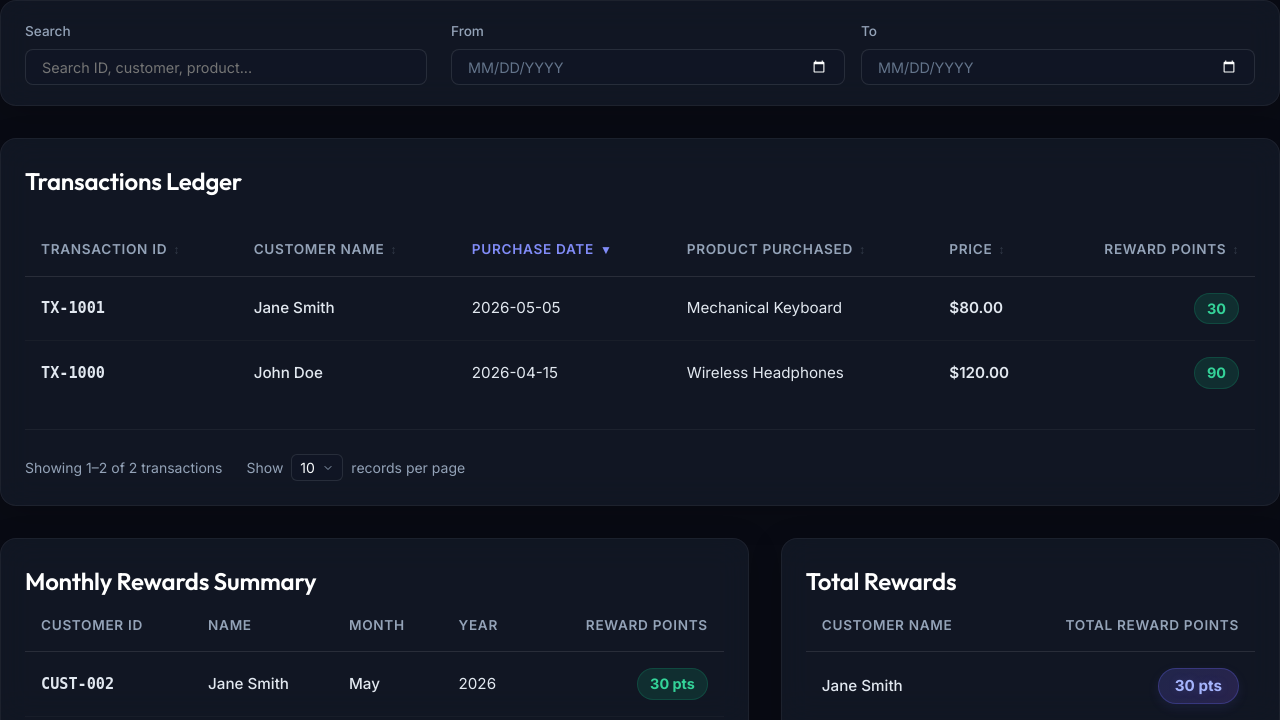
Scenario: DashboardContent Component › applies date range filters on input change and apply click
The image size is (1280, 720).
Type "2026-05-01" into the date field with test id "start-date-input".
click(648, 67); type("2026-05-01")  # box [451, 49, 845, 85]
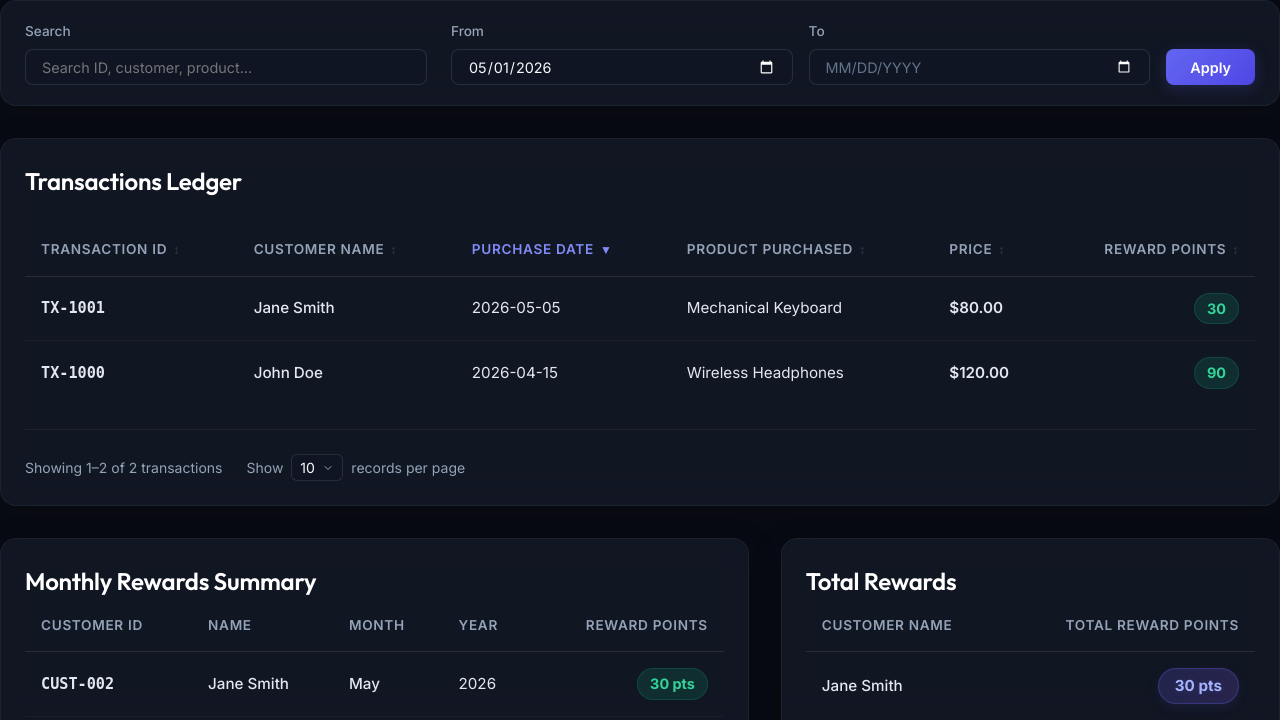
Type "2026-05-31" into the date field with test id "end-date-input".
click(979, 67); type("2026-05-31")  # box [809, 49, 1150, 85]
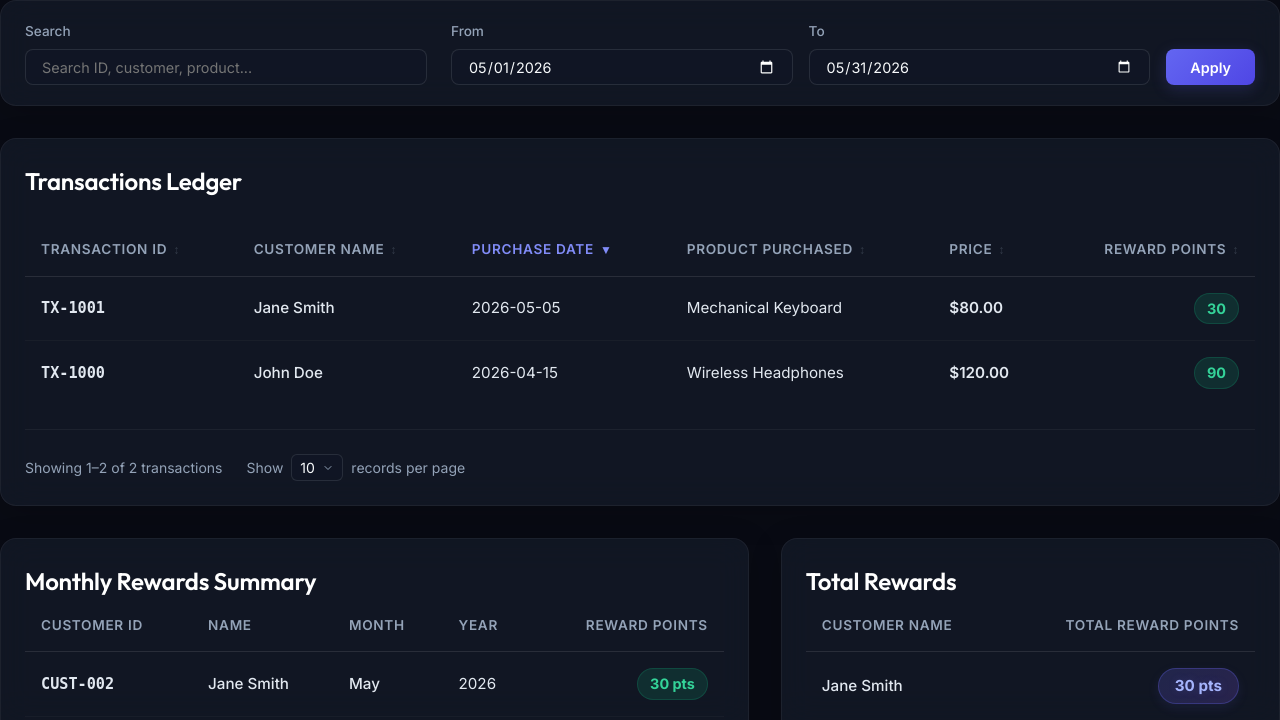
Click the button with test id "apply-filters-btn".
click(1211, 67)  # box [1166, 49, 1255, 85]
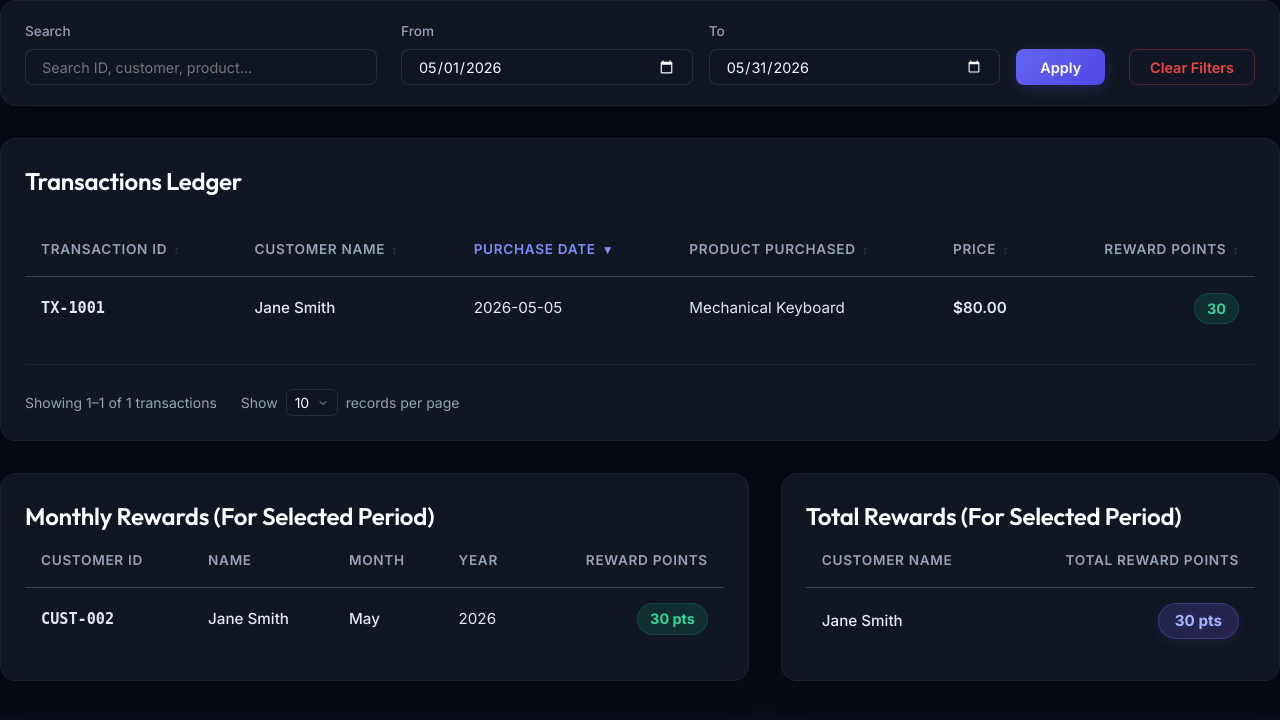
Expected: the text "Mechanical Keyboard" is shown, [673, 276, 937, 340]
Expected: the text "Wireless Headphones" is gone
